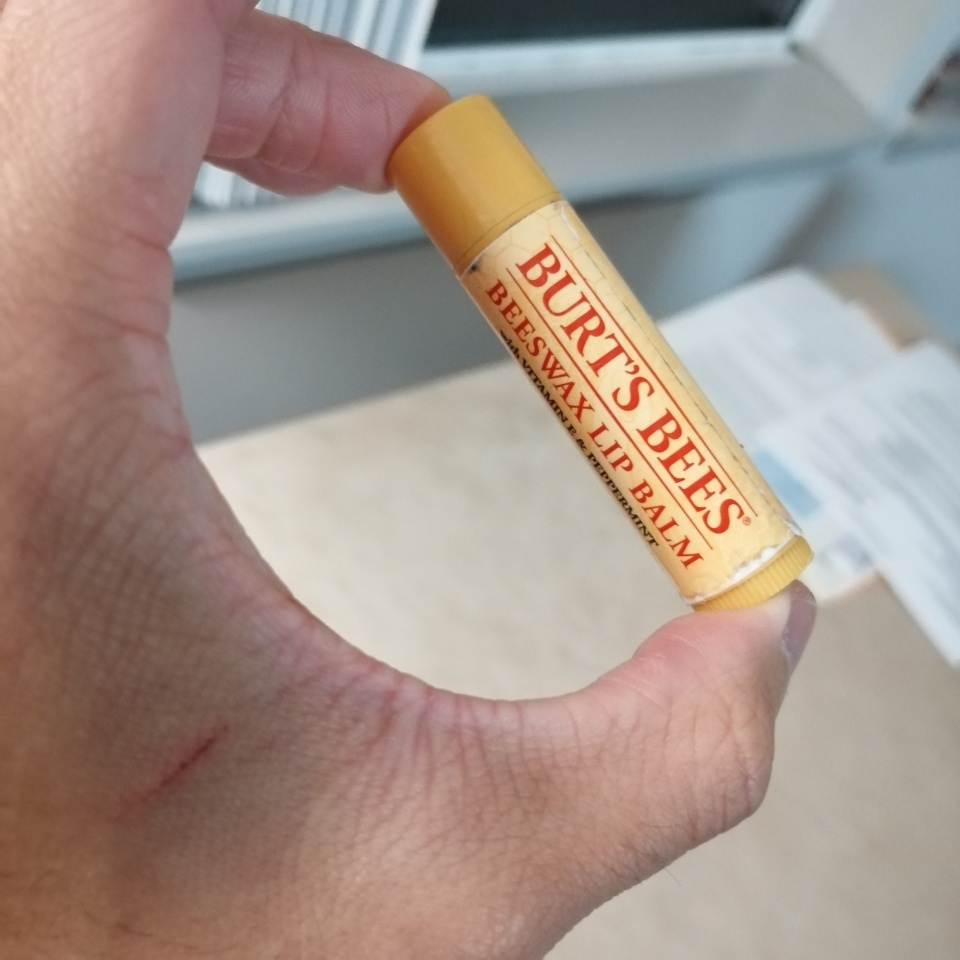chapstick: (386, 93, 815, 613)
